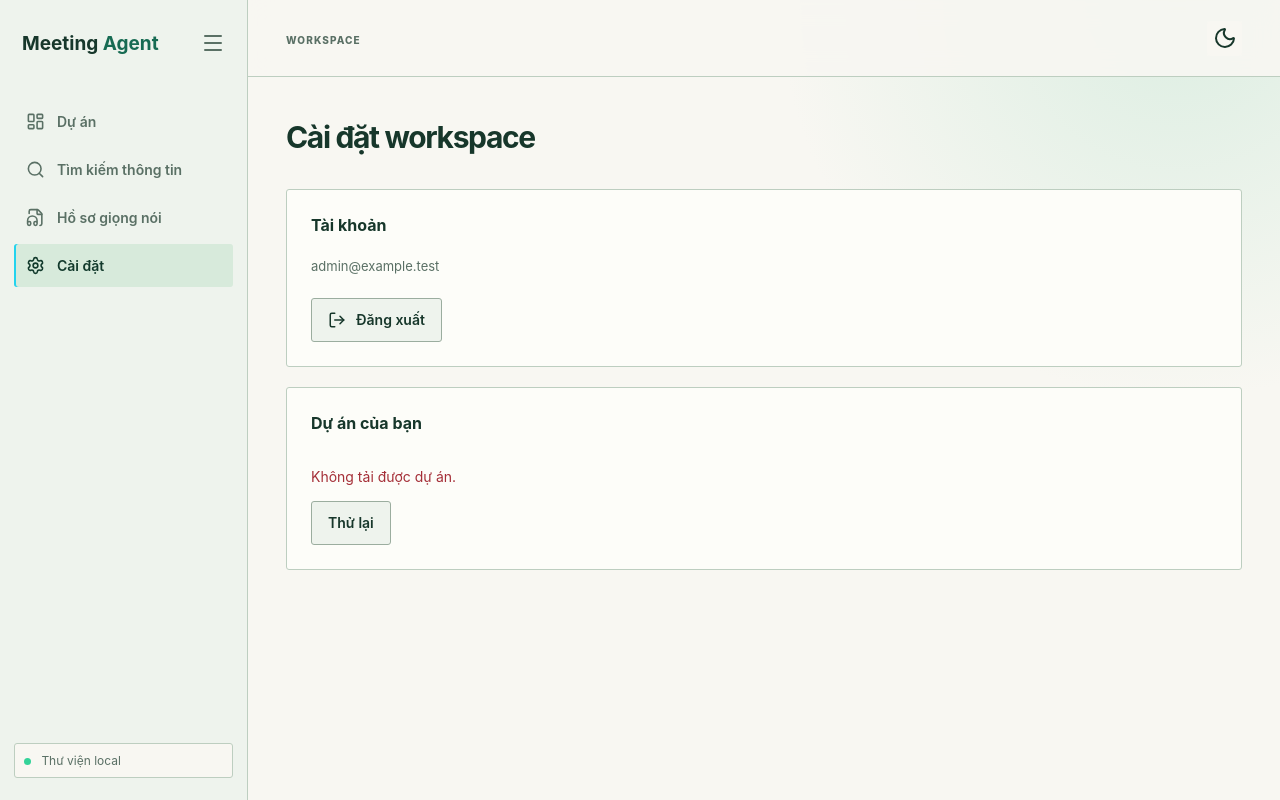
Test: retries failed project loading without reporting an empty list
Expected: the message reads "Không tải được dự án.", [311,468,456,485]
Expected: the button "Đăng xuất" is shown, [311,298,442,342]
Click the button "Thử lại" at [351, 523], box [311,501,391,545]
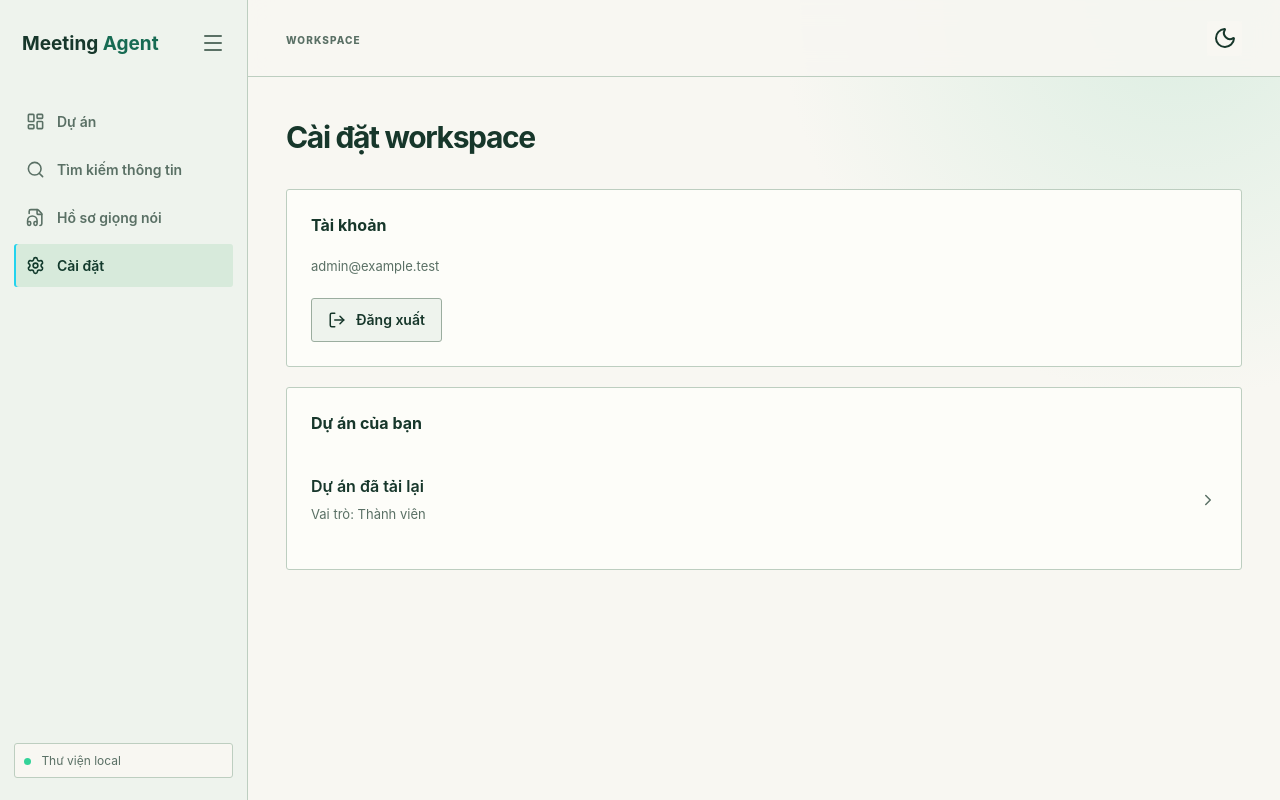
Now the link "Dự án đã tải lại Vai trò: Thành viên" is shown, box [311,476,1217,522]
Now the message "Không tải được dự án." is gone
